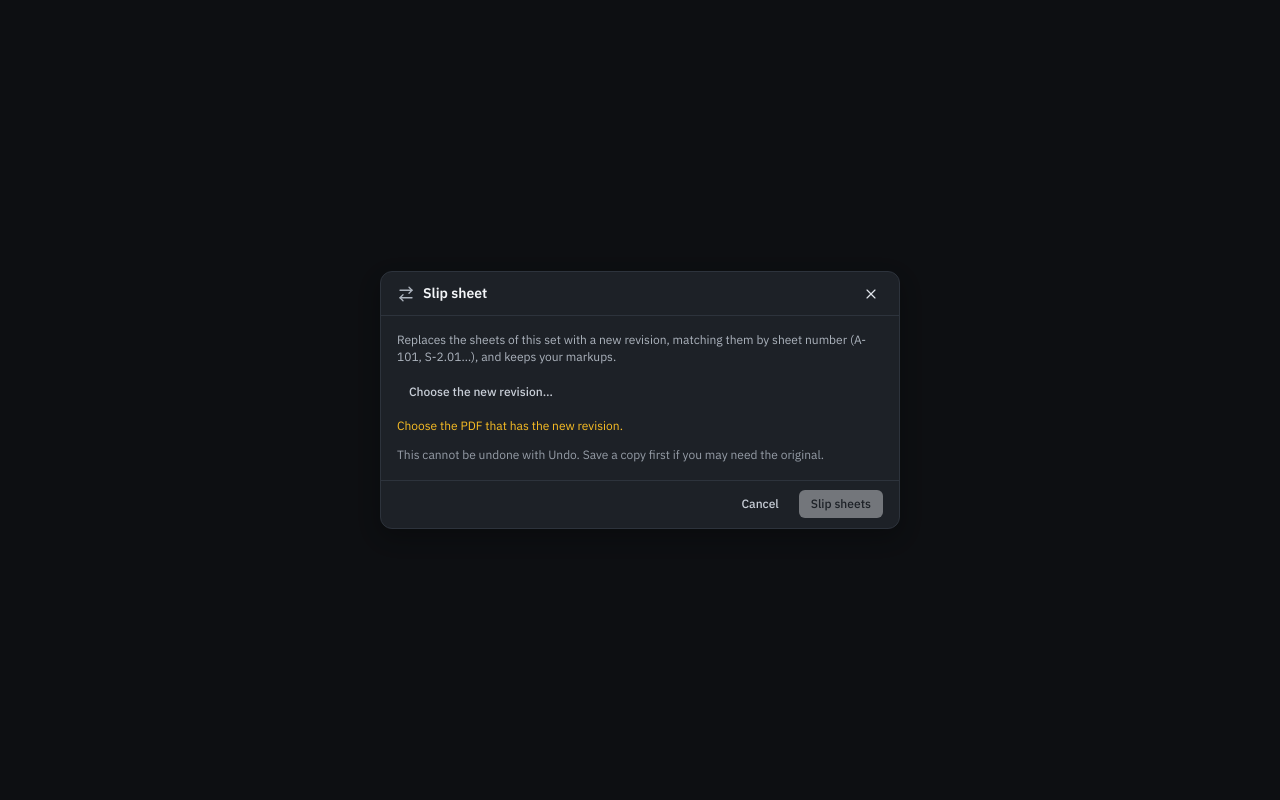
Test: Diálogo Slip Sheet (ADR-0129) › empareja las láminas por número aunque la revisión venga en otro orden y deja la que sobra sin pareja
expect the text with test id "slip-problem" shows "Choose the PDF that has the new revision": met, box [397,418,623,433]
Click the button with test id "slip-choose" at (481, 392), box [397,378,565,406]
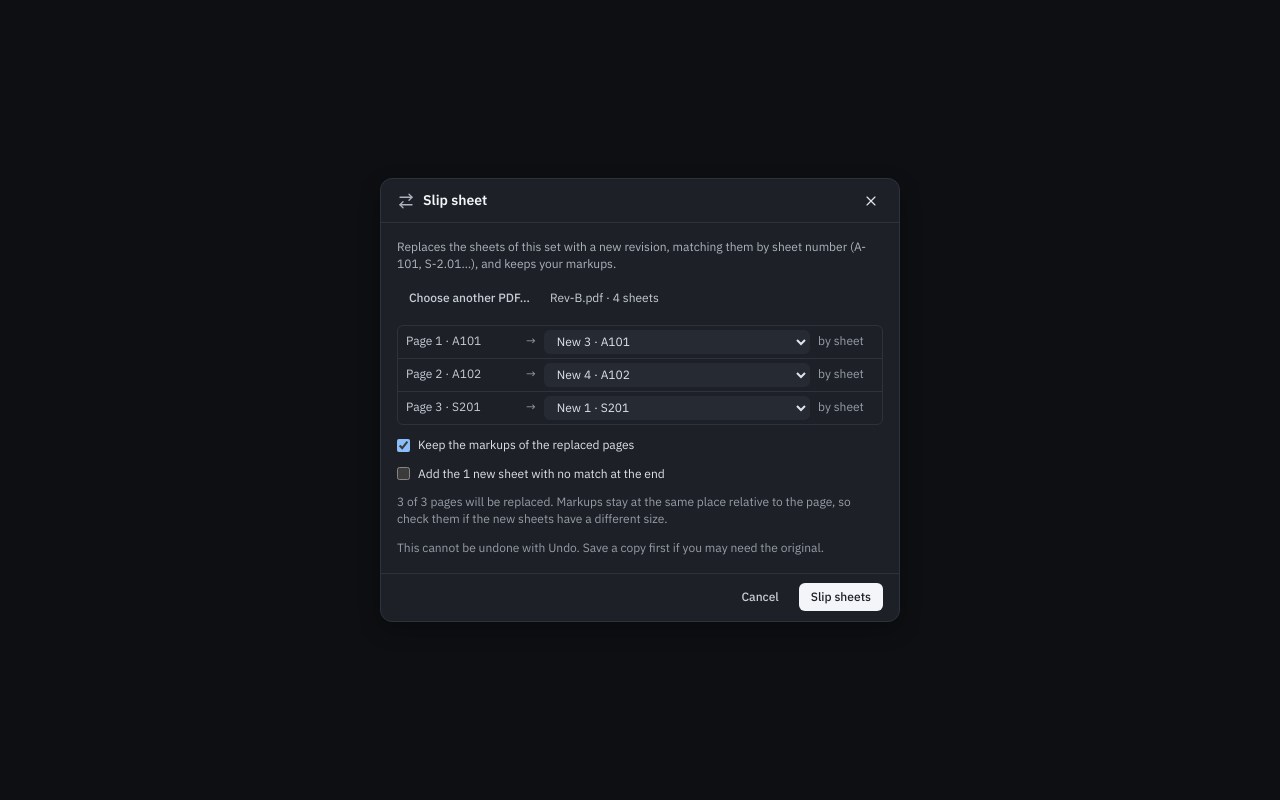
expect the list with test id "slip-rows" is shown: met, box [397,325,883,425]
expect the text with test id "slip-source" reads "Rev-B.pdf · 4 sheets": met, box [550,290,659,307]
expect the dropdown with test id "slip-select-0" shows "New 3 · A101": met, box [544,330,810,354]
